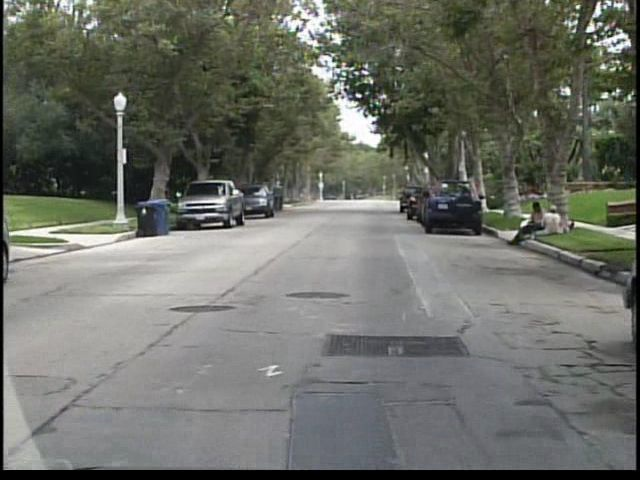person: (510, 200, 549, 248), (538, 205, 564, 235)
